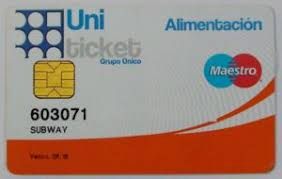tarjeta: (5, 4, 275, 175)
